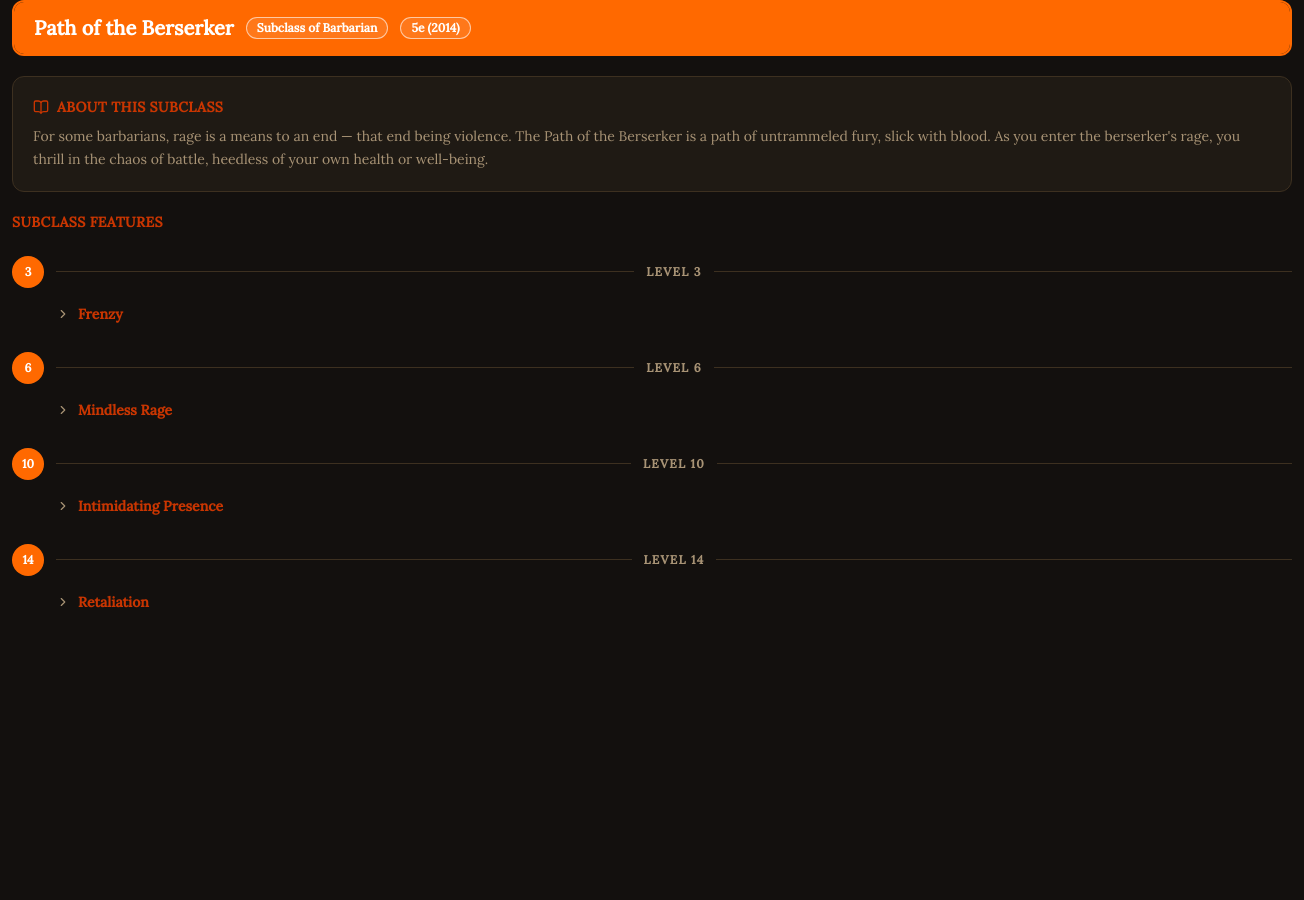
Test: SubclassOverview › shows feature description after clicking the feature name
Click the button with test id "feature-toggle-Frenzy".
click(100, 314)  # box [56,300,1292,328]
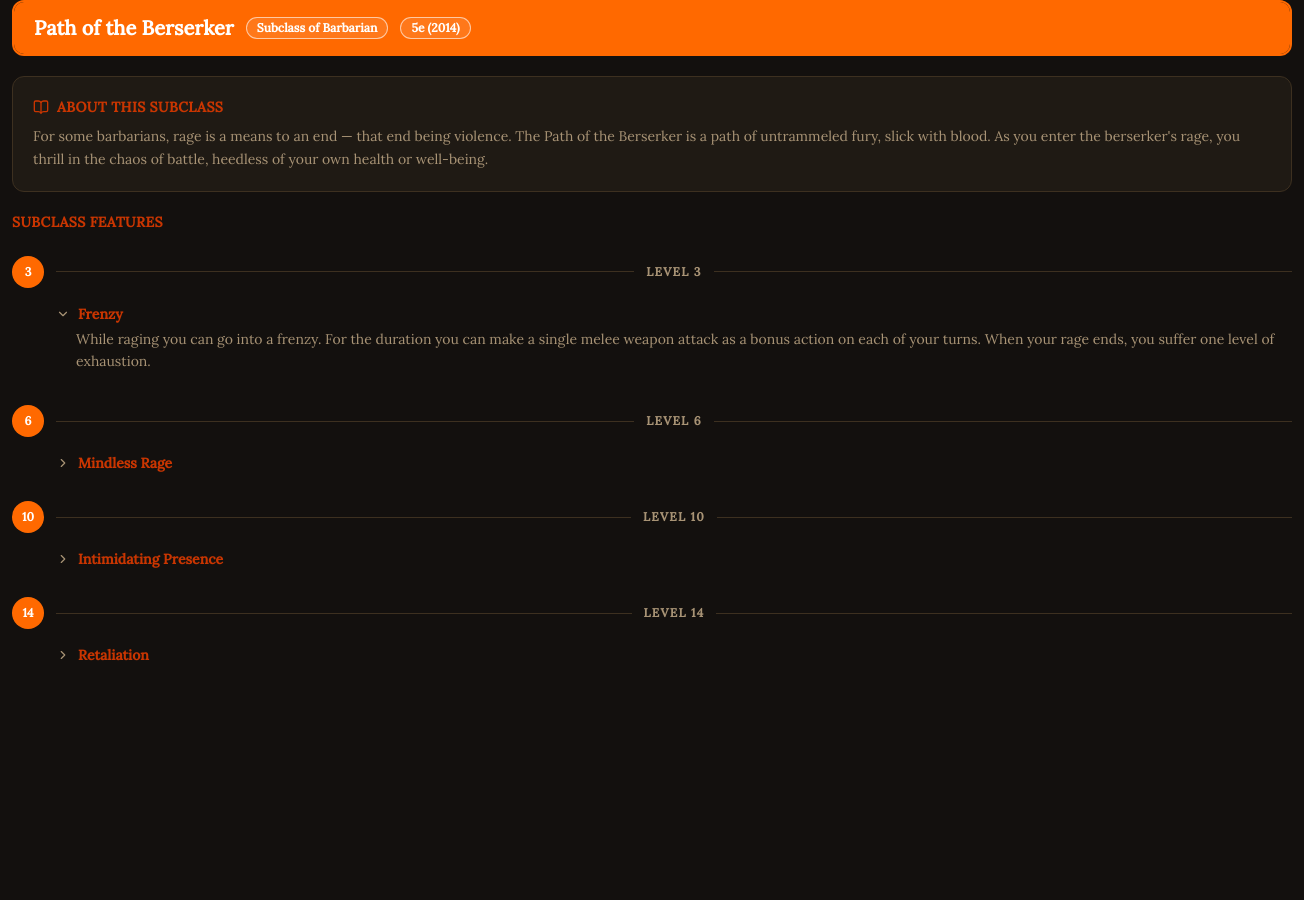
Check: the text "go into a frenzy" is shown, box [76,330,1274,370]
